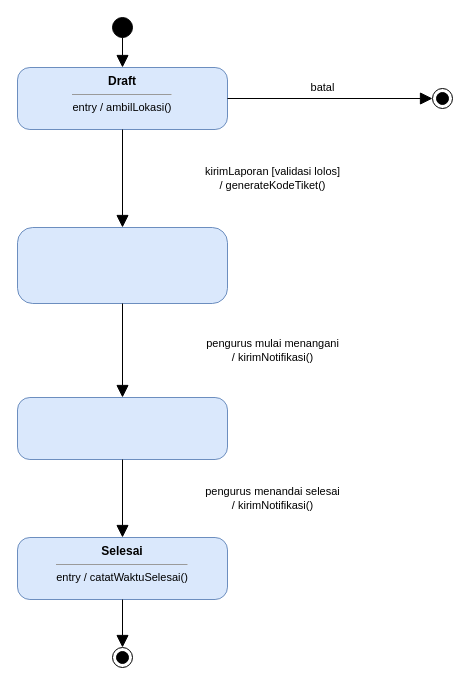
This 470x685 diagram has some shape labels left out. The centre of each missing label's shape, as x and y in pixels:
"Baru do / tampil di daftar pengurus (identitas disamarkan)" goes at point (122, 265).
"Diproses do / penindaklanjutan pengurus" goes at point (122, 428).
